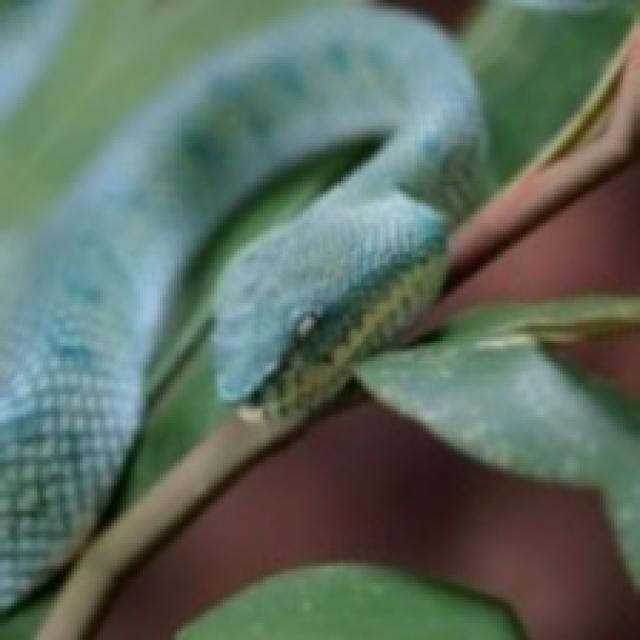north ph temple pitviper: (0, 9, 486, 608)
